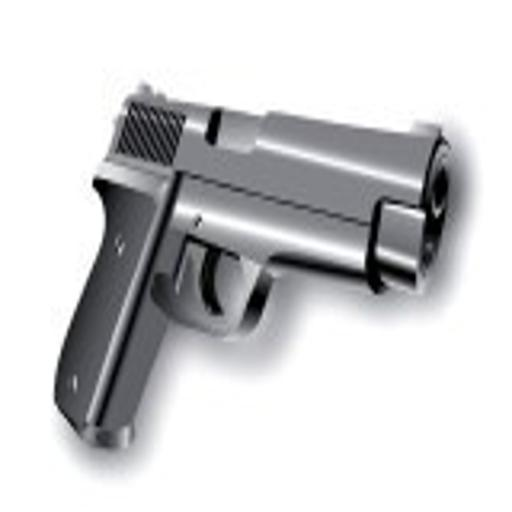Handgun: (50, 75, 456, 459)
